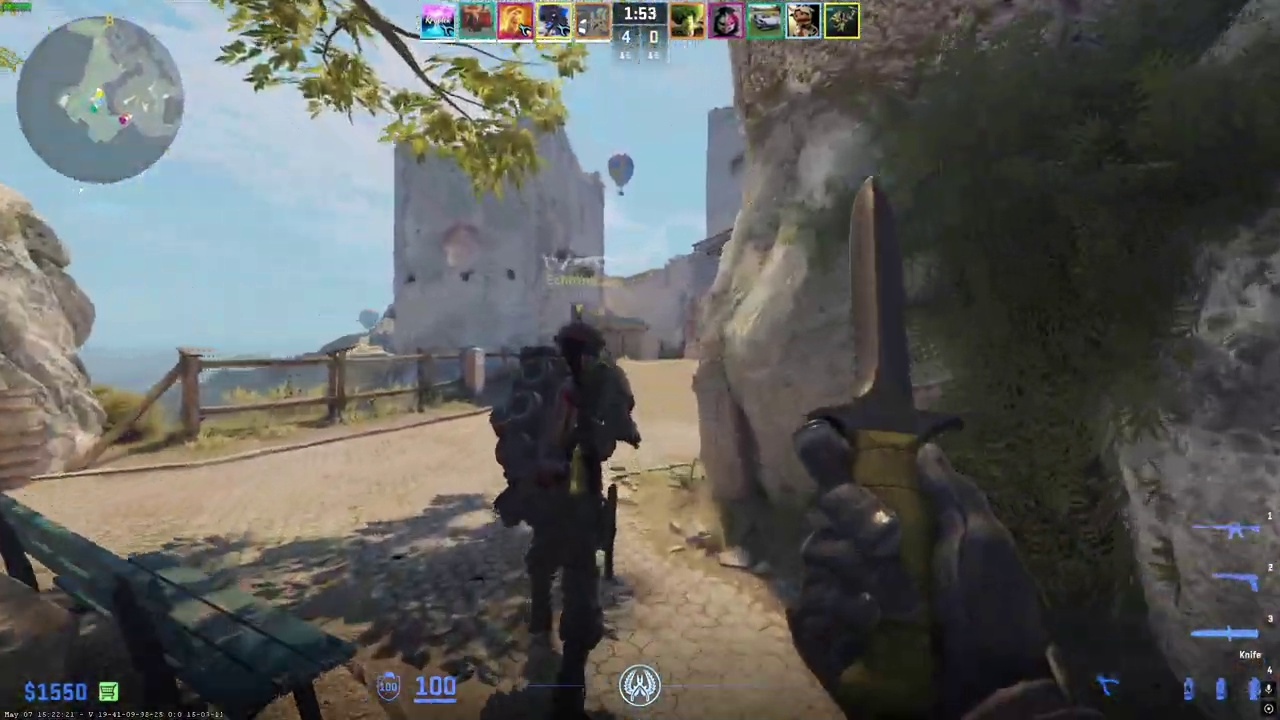CT: (482, 317, 645, 717)
